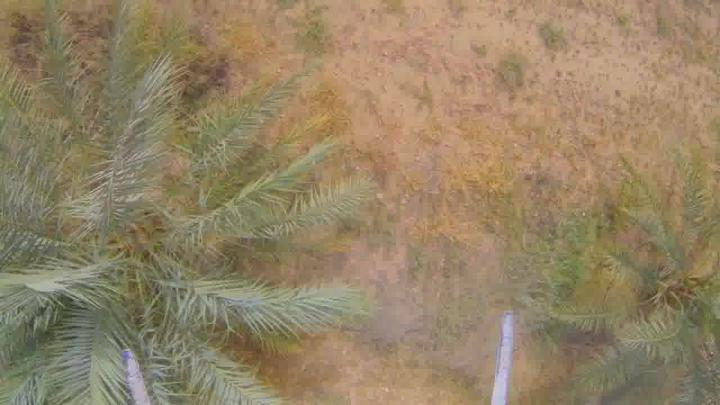Date-Palm-Crown: (0, 100, 286, 404), (624, 206, 720, 384)
